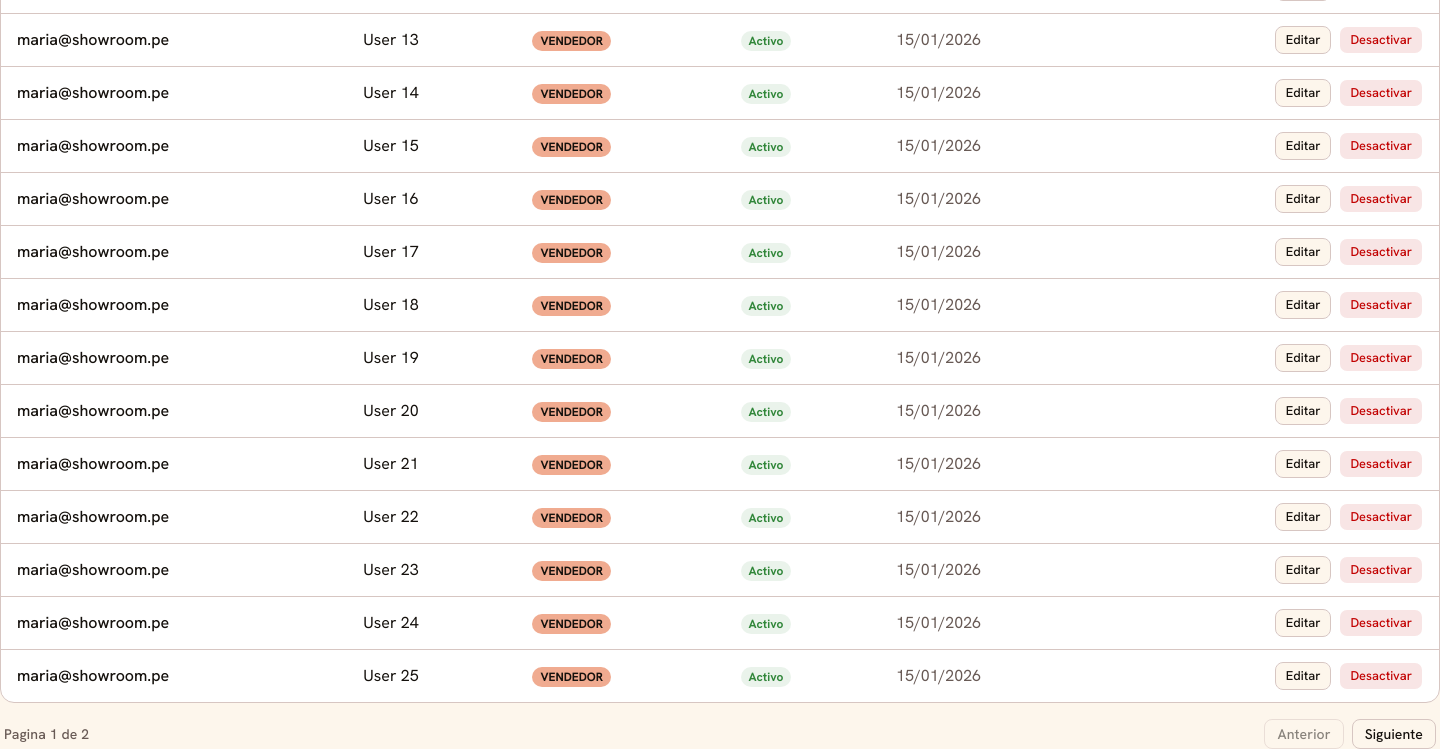
Scenario: <UsuariosPanel> (T-5.1) — admin user management table › (5) shows pagination controls when there are >25 usuarios_rol rows; Anterior/Siguiente buttons advance pages
(page scrolled)
Check: the element with test id "usuarios-pagination" shows "Pagina 1 de 2", box [0,719,1439,748]
// Click "Siguiente" to go to page 2
Click the button "Siguiente" at coordinates (1394, 734), box [1352,719,1436,748]
(page scrolled)
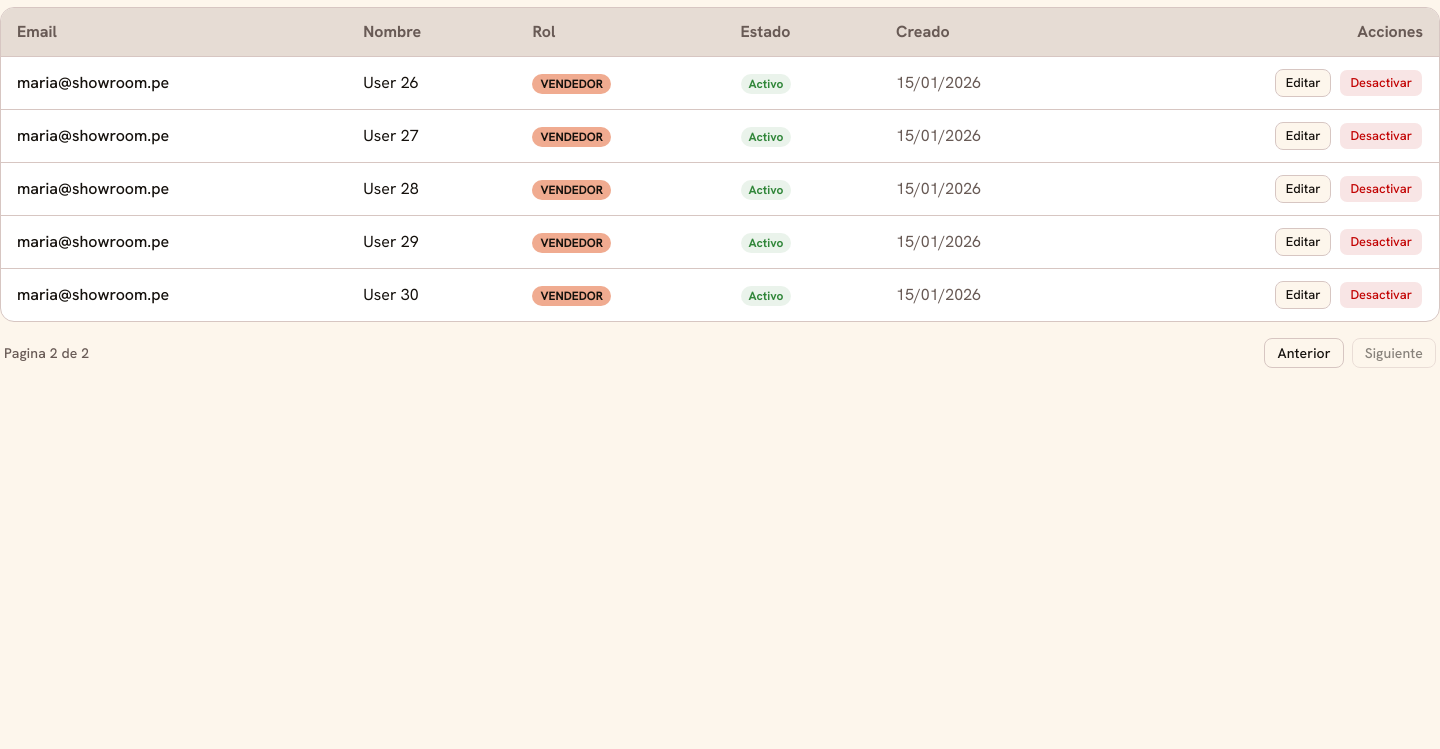
Check: the element with test id "usuarios-pagination" shows "Pagina 2 de 2", box [0,338,1439,368]
// Click "Anterior" to go back
Click the button "Anterior" at coordinates (1304, 353), box [1264,338,1344,368]
(page scrolled)
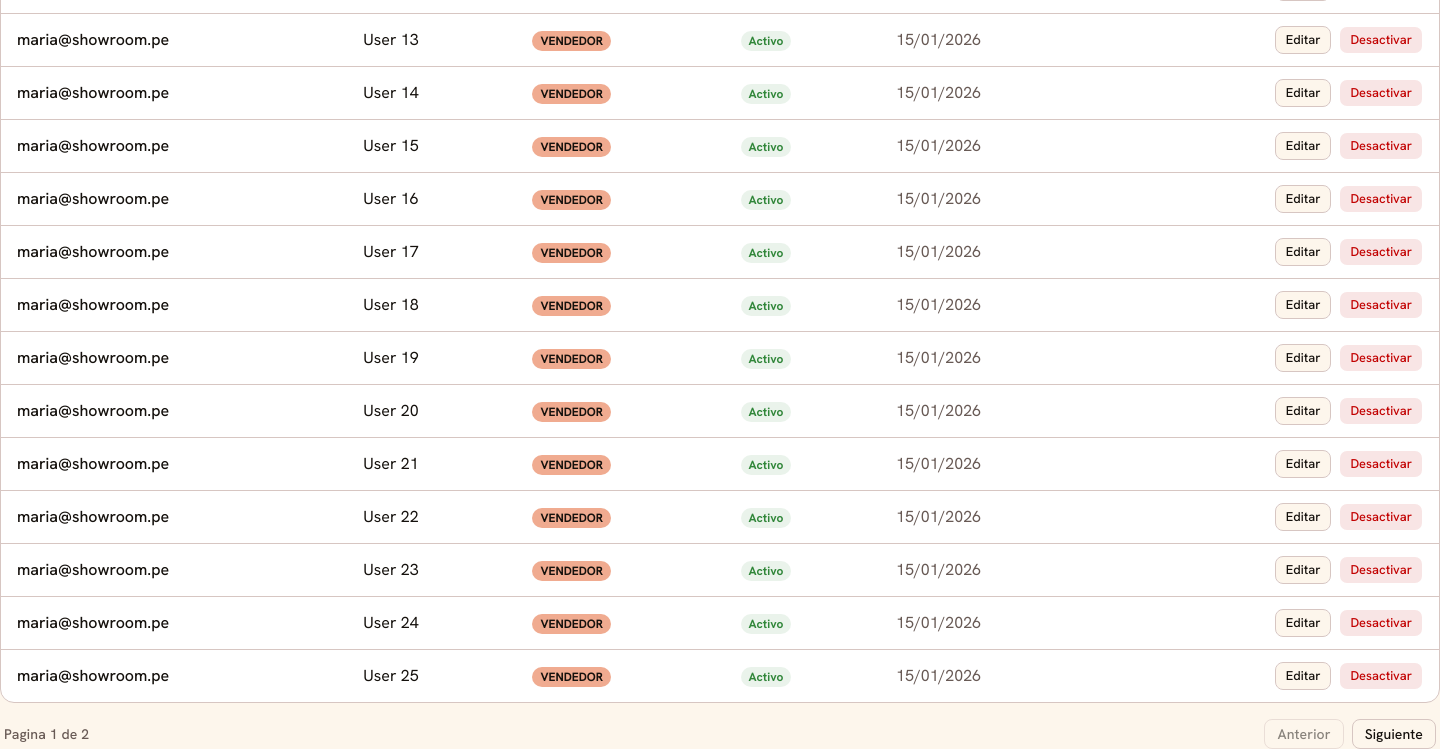
Check: the element with test id "usuarios-pagination" shows "Pagina 1 de 2", box [0,719,1439,748]
